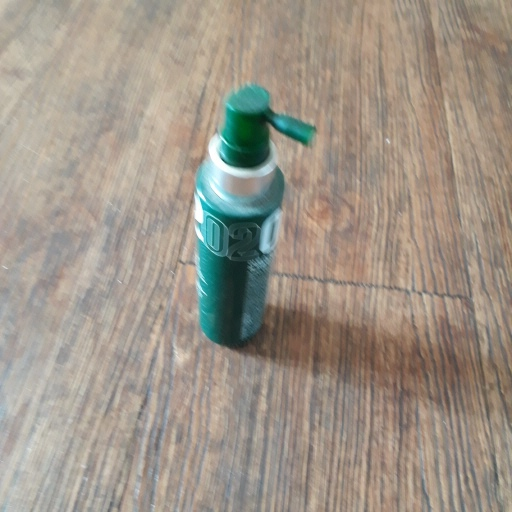Plastic_3: (188, 82, 314, 350)
